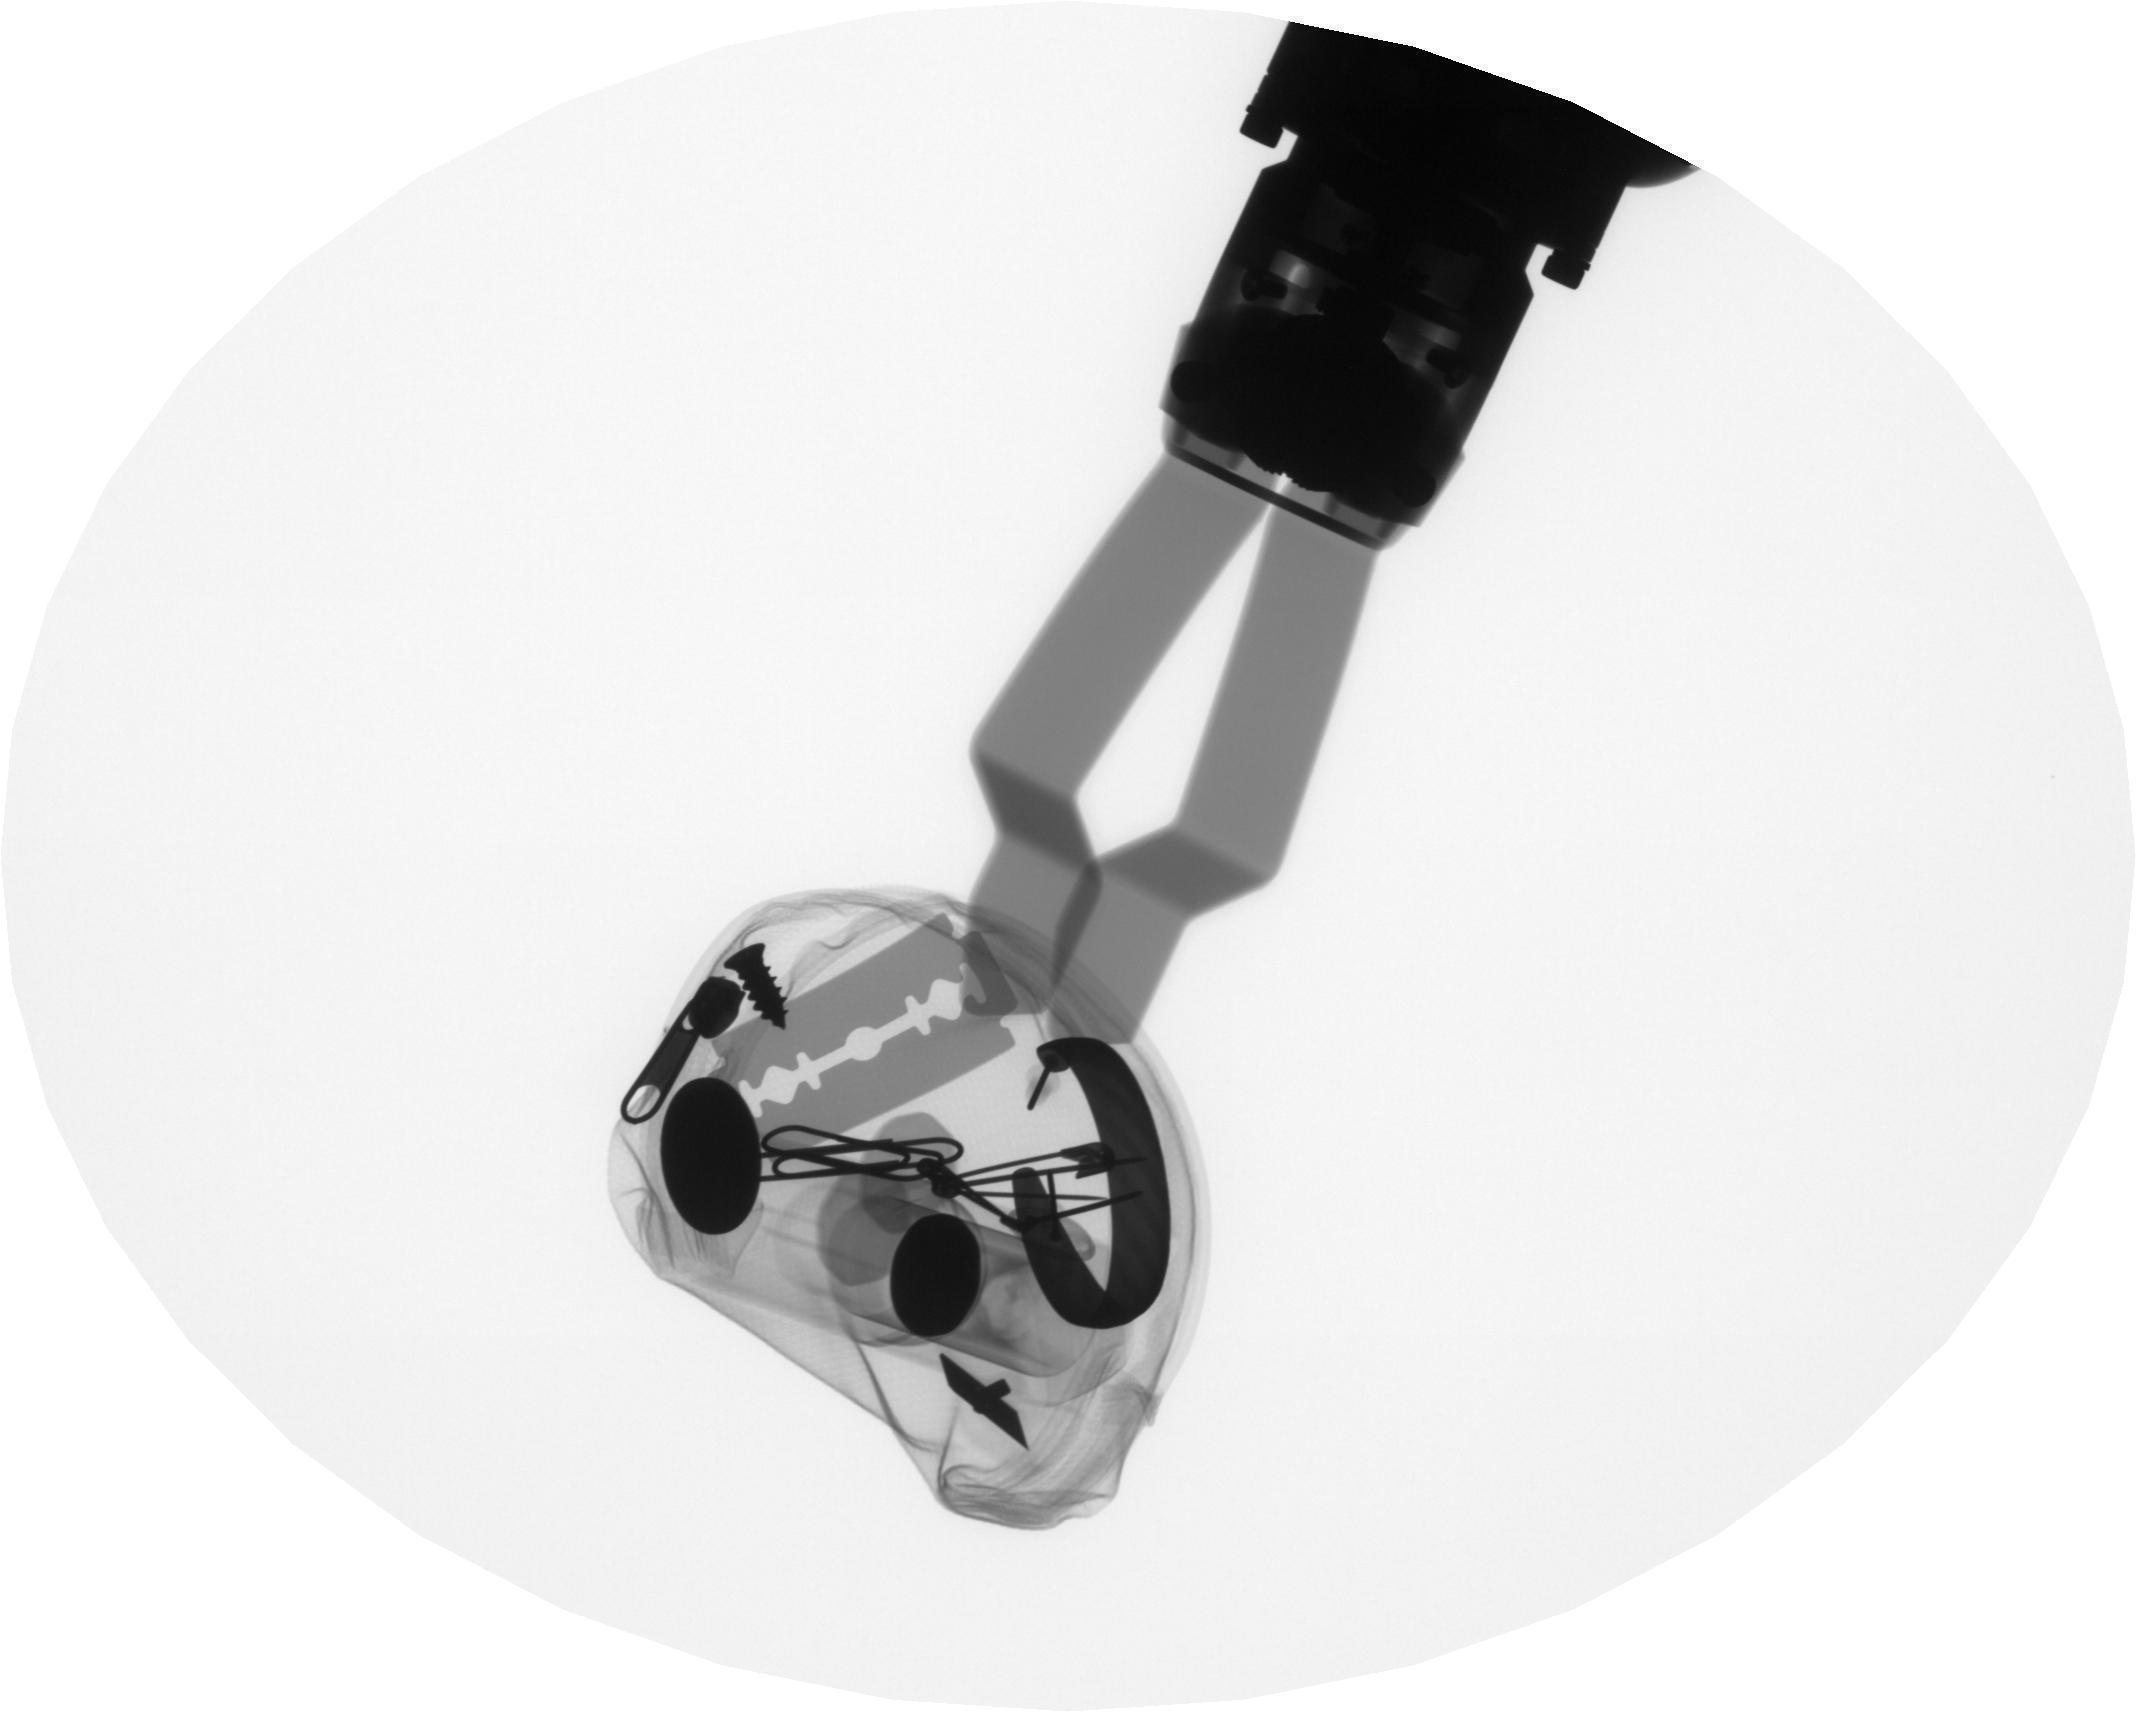RazorBlade: (700, 905, 1023, 1188)
